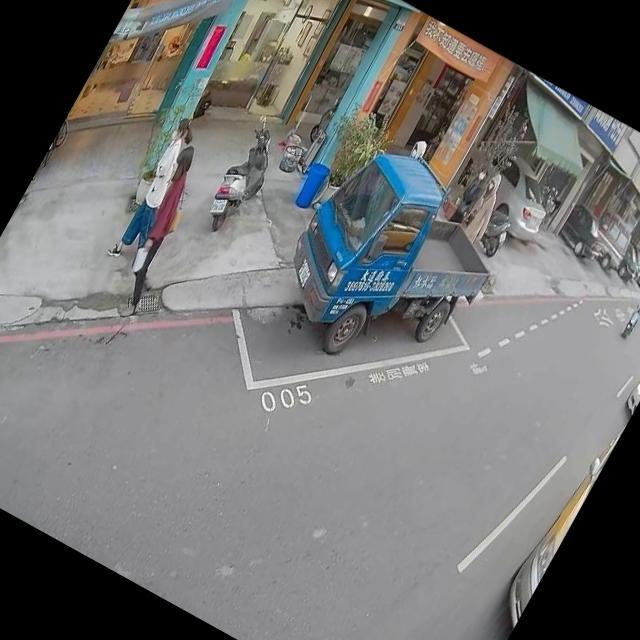person: (92, 134, 226, 322), (104, 110, 210, 266), (452, 168, 514, 252), (448, 160, 497, 228), (404, 130, 436, 164), (634, 292, 640, 316)
